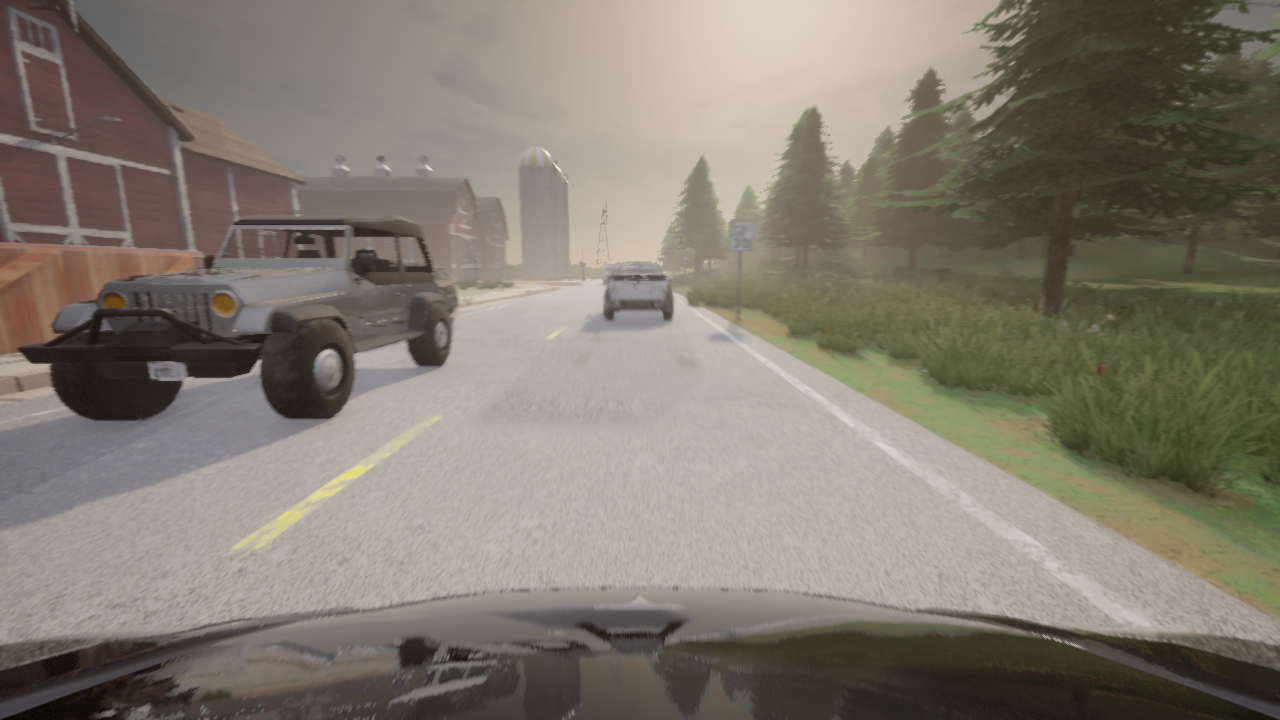cyclist: (0, 588, 1279, 719), (18, 216, 452, 420), (604, 263, 672, 319), (434, 265, 458, 313), (600, 263, 621, 284), (591, 273, 601, 279)
